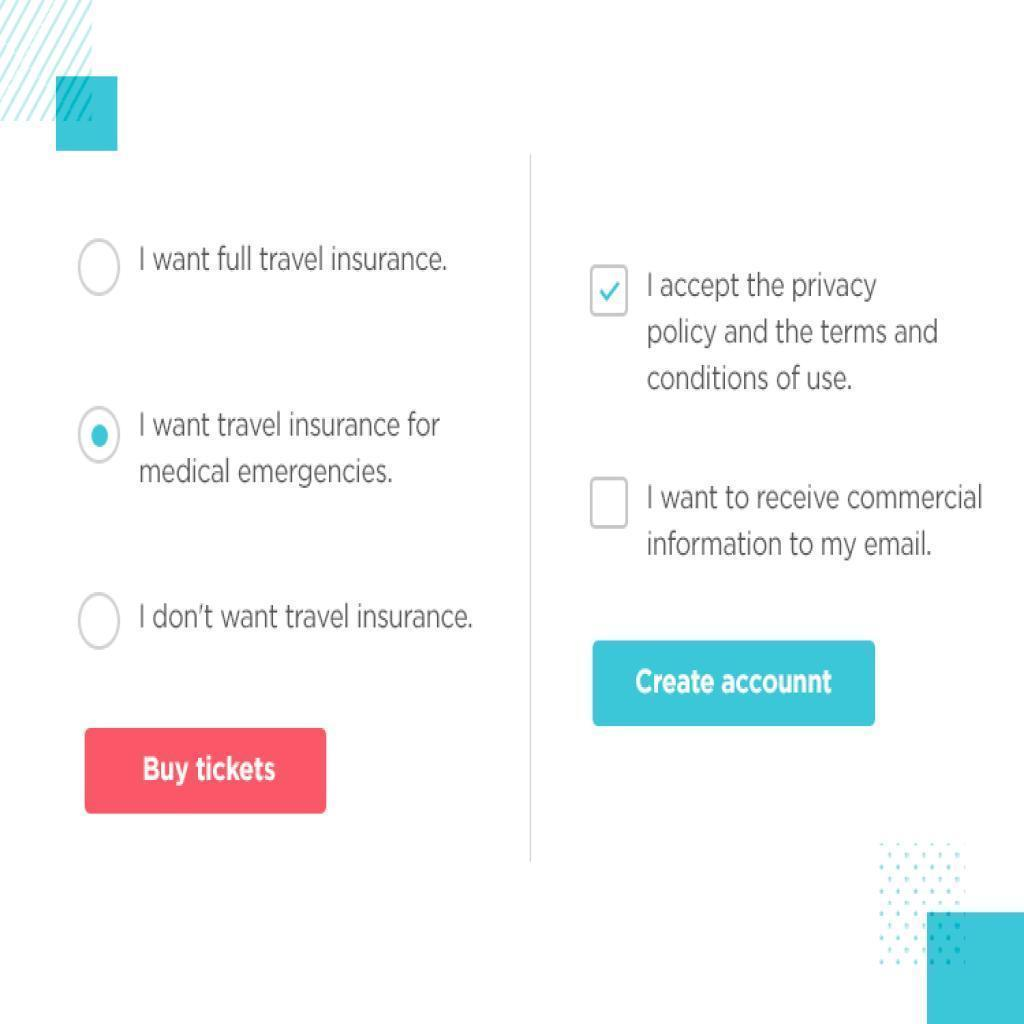button: (595, 640, 876, 726), (86, 726, 328, 813)
checkbox: (591, 477, 629, 529), (590, 266, 629, 316)
radio: (76, 233, 124, 319), (73, 589, 123, 655), (77, 403, 122, 471)
